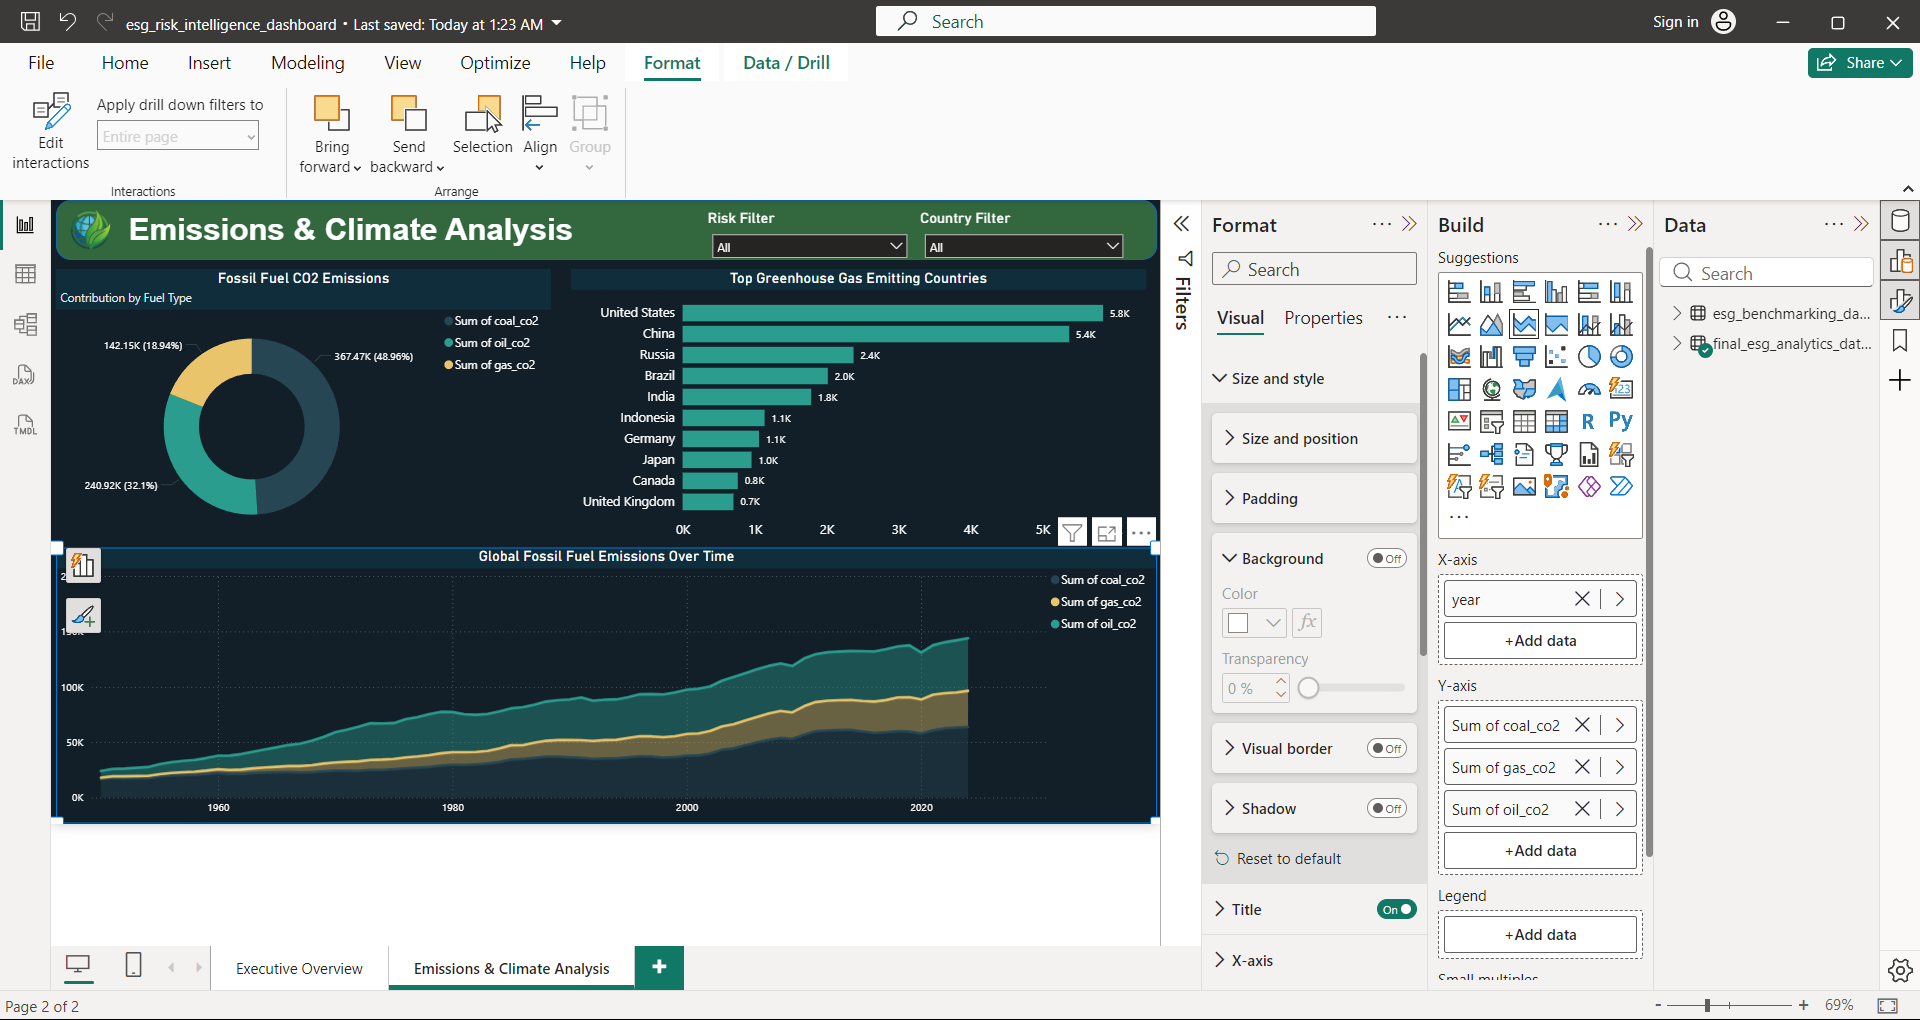

What the dashboard file says about the page in this screenshot:
{"tool":"powerbi","page":{"name":"Emissions & Climate Analysis","canvas":[1280,720],"ordinal":1},"visuals":[{"type":"textbox","box":[0,15.8,1280,77],"z":0},{"type":"shape","box":[5.8,0,1271.1,69.3],"z":1000},{"type":"donutChart","title":"Fossil Fuel CO2 Emissions","fields":{"Y":["Sum(final_esg_analytics_dataset.coal_co2)","Sum(final_esg_analytics_dataset.oil_co2)","Sum(final_esg_analytics_dataset.gas_co2)"]},"box":[5.8,79.4,571.3,321.7],"z":2000},{"type":"slicer","title":"Risk Filter","fields":{"Values":["esg_benchmarking_dataset.risk_category"]},"box":[752.8,9.7,244.9,68.8],"z":3000},{"type":"slicer","title":"Country Filter","fields":{"Values":["esg_benchmarking_dataset.country"]},"box":[998.4,10.1,249.6,89.5],"z":4000},{"type":"image","box":[0,0,90.9,69.1],"z":5000},{"type":"clusteredBarChart","title":"Top Greenhouse Gas Emitting Countries","fields":{"Category":["esg_benchmarking_dataset.country"],"Y":["Avg(esg_benchmarking_dataset.total_ghg)"]},"box":[600.2,79.4,663.7,321.7],"z":6000},{"type":"stackedAreaChart","title":"Global Fossil Fuel Emissions Over Time","fields":{"Category":["final_esg_analytics_dataset.year"],"Y":["Sum(final_esg_analytics_dataset.coal_co2)","Sum(final_esg_analytics_dataset.gas_co2)","Sum(final_esg_analytics_dataset.oil_co2)"]},"box":[5.8,401.1,1258.1,318.9],"z":6001}]}

Visuals, with their boxes on the page's 1280x720 design canvas (x1, y1, x2, y2). These are canvas units, not pixel positions in the 1920x1020 screenshot, which may show the page scaled, cropped or inside an application window:
textbox: select_region(0, 16, 1280, 93)
shape: select_region(6, 0, 1277, 69)
"Fossil Fuel CO2 Emissions" donutChart: select_region(6, 79, 577, 401)
"Risk Filter" slicer: select_region(753, 10, 998, 78)
"Country Filter" slicer: select_region(998, 10, 1248, 100)
image: select_region(0, 0, 91, 69)
"Top Greenhouse Gas Emitting Countries" clusteredBarChart: select_region(600, 79, 1264, 401)
"Global Fossil Fuel Emissions Over Time" stackedAreaChart: select_region(6, 401, 1264, 720)
